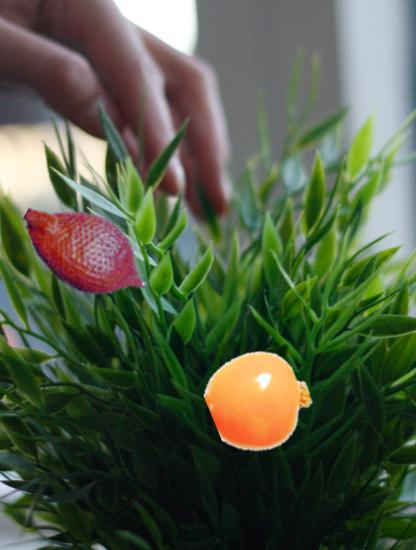Physalis: (210, 350, 312, 452)
Salak: (15, 181, 157, 323)
